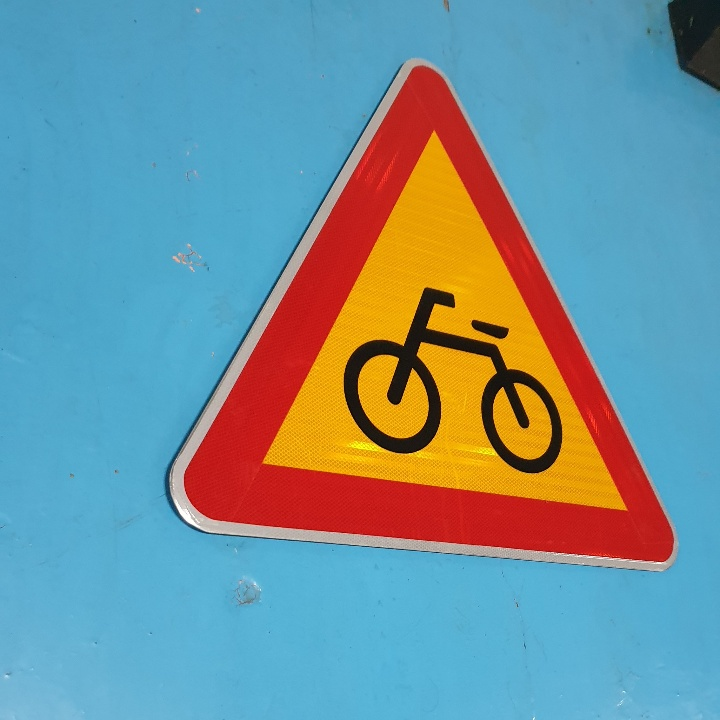bicycle: (174, 55, 682, 573)
